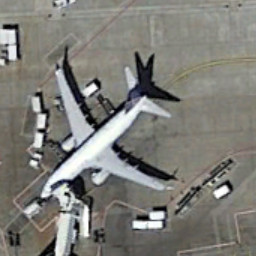Airplane: (18, 43, 187, 215)
